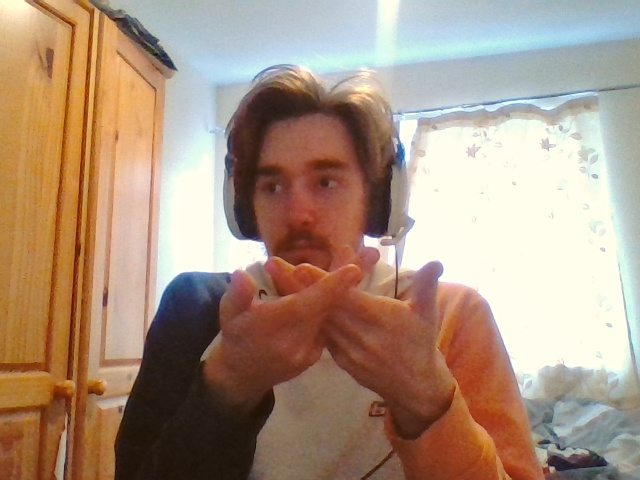how: (218, 245, 444, 394)
